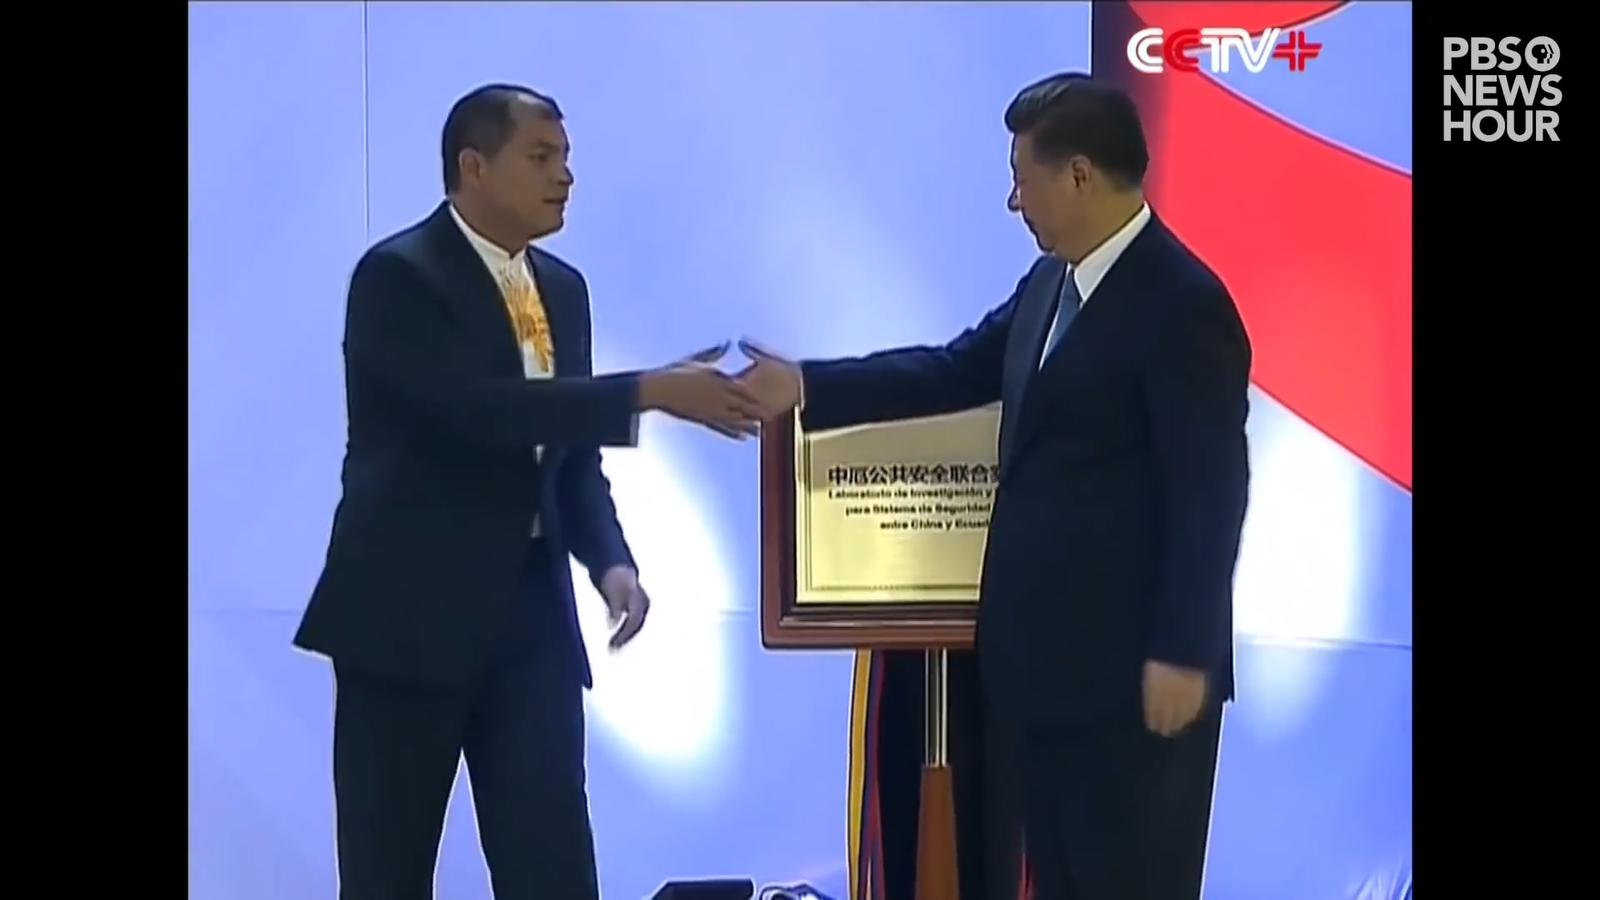without_mask: (507, 133, 563, 224), (1017, 144, 1068, 232)
